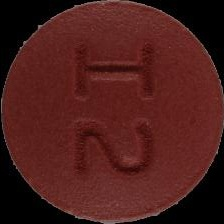16729-172: (0, 0, 224, 224)
